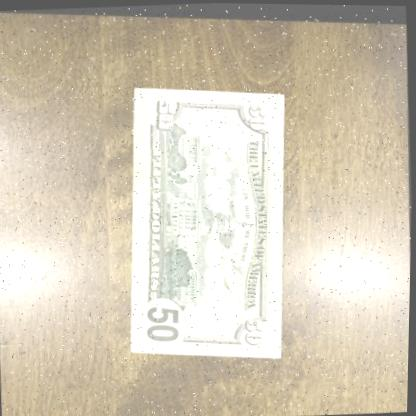dollar_back: (116, 74, 298, 360)
